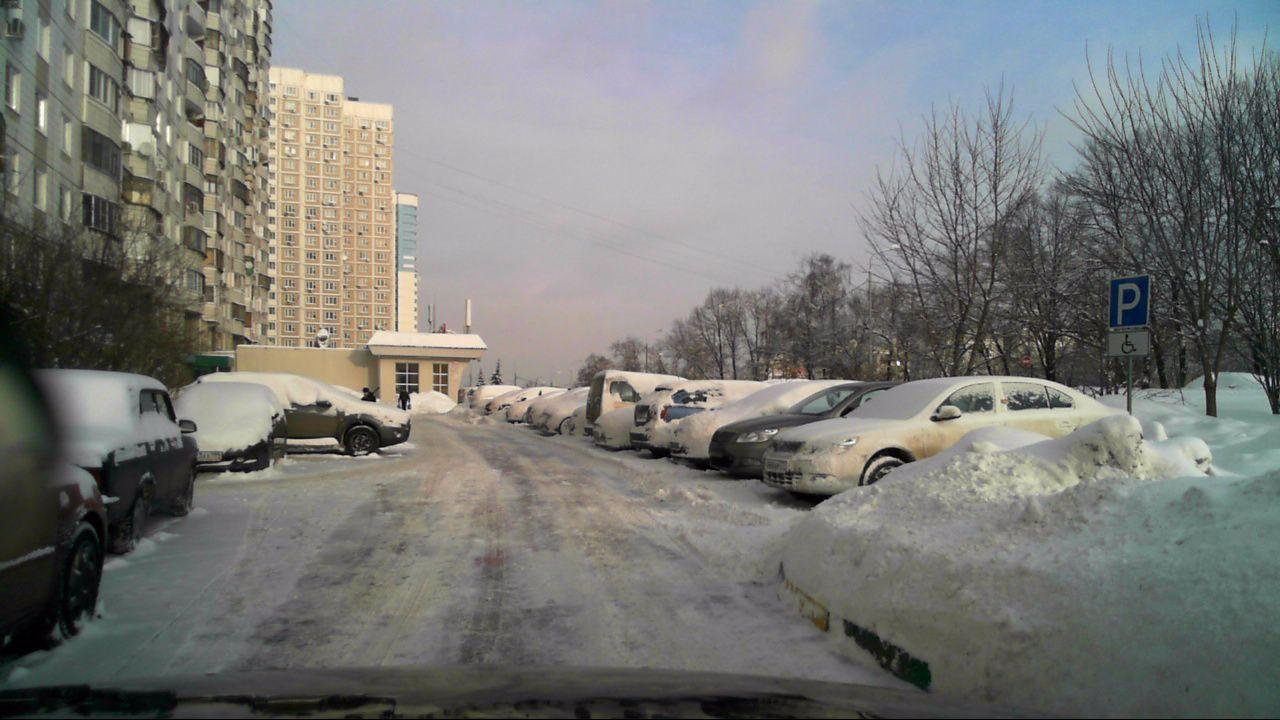6_4: (1108, 276, 1148, 328)
8_17: (1108, 331, 1150, 355)
